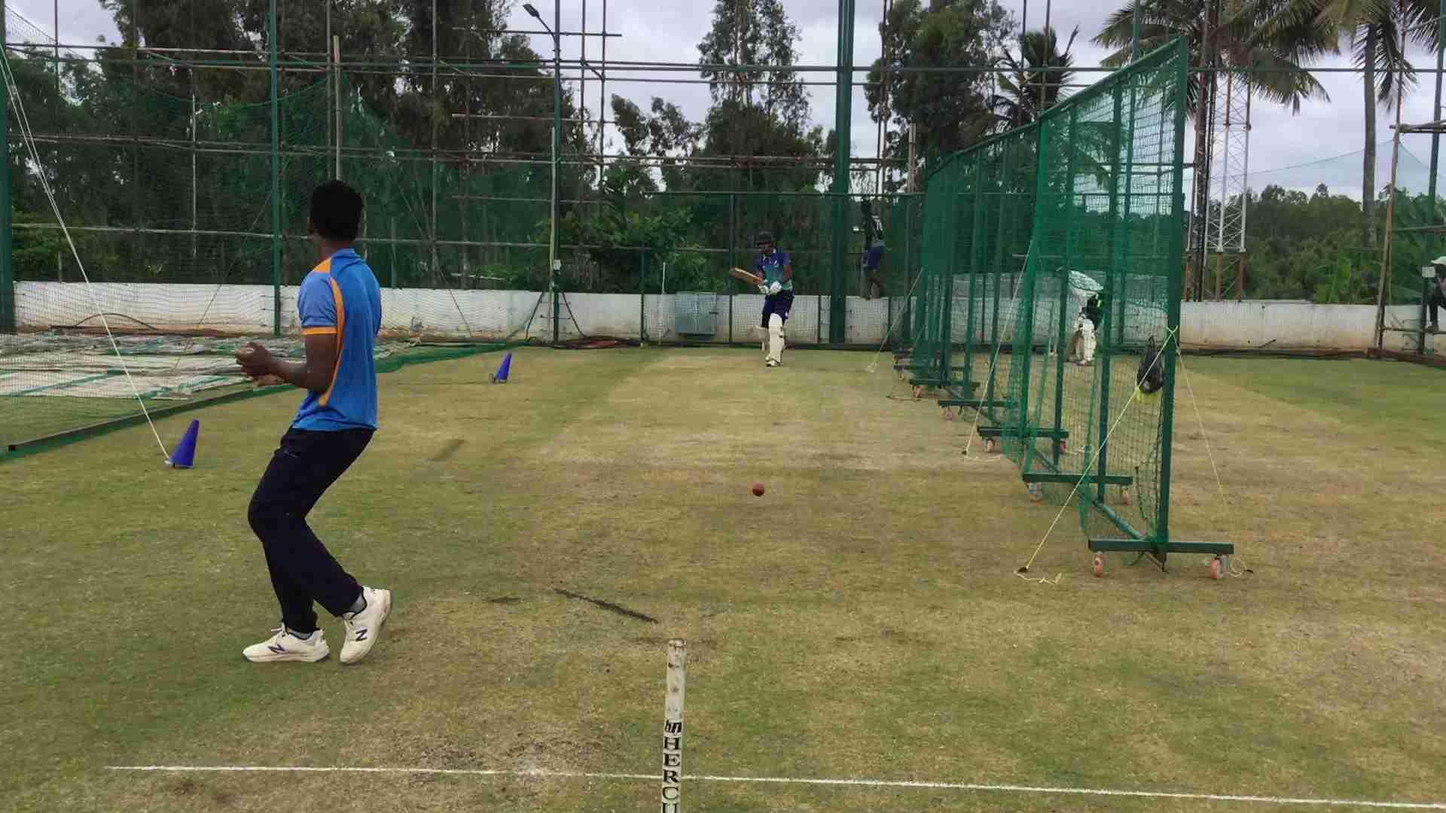batsman: (747, 221, 796, 373)
